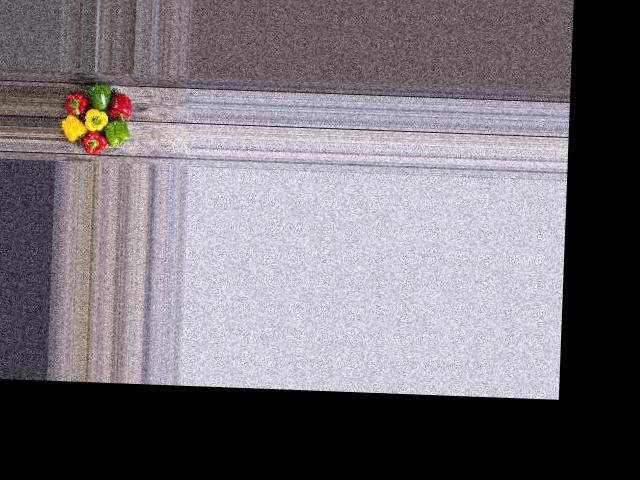bell_pepper: (59, 92, 88, 120)
